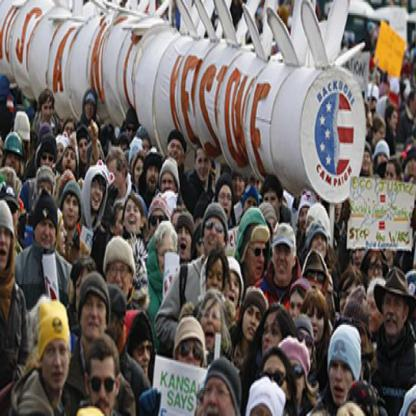face: (42, 340, 71, 390), (329, 348, 354, 406), (90, 360, 118, 410), (202, 377, 236, 416), (80, 292, 107, 340), (265, 355, 289, 407), (178, 340, 205, 377), (107, 262, 131, 303), (202, 308, 224, 352), (384, 294, 406, 338), (247, 236, 267, 283), (264, 317, 285, 361), (75, 272, 96, 314), (157, 232, 178, 274), (205, 219, 226, 260), (243, 307, 265, 346), (306, 301, 325, 344), (305, 261, 325, 299), (287, 361, 303, 405), (207, 259, 224, 300), (274, 244, 292, 282), (36, 216, 56, 250), (291, 292, 307, 334), (341, 280, 359, 317), (225, 271, 241, 310), (367, 294, 383, 333), (151, 209, 169, 243), (197, 233, 216, 265), (124, 201, 142, 234), (135, 342, 151, 376), (311, 231, 327, 265), (368, 256, 385, 288), (1, 221, 12, 269), (172, 212, 188, 245), (197, 150, 213, 183), (354, 247, 370, 280), (63, 195, 79, 227), (161, 175, 178, 205), (177, 225, 191, 261), (219, 188, 233, 224), (264, 193, 280, 224), (329, 191, 343, 226), (91, 179, 105, 212), (168, 141, 183, 170), (17, 135, 32, 163), (109, 159, 122, 191), (386, 165, 399, 197), (135, 158, 147, 189), (6, 151, 20, 177), (64, 148, 77, 176), (115, 210, 127, 240), (39, 178, 52, 205), (146, 166, 159, 193), (245, 198, 258, 224), (42, 151, 55, 174), (232, 176, 245, 197), (80, 139, 90, 166), (300, 207, 309, 236), (378, 154, 390, 173), (361, 153, 372, 173), (140, 141, 150, 160), (125, 123, 135, 142), (86, 102, 96, 120), (376, 125, 385, 145), (409, 91, 416, 116), (66, 122, 76, 139), (392, 111, 399, 134), (120, 145, 130, 161), (56, 148, 66, 163), (43, 102, 52, 118), (409, 160, 416, 178), (370, 95, 377, 112)
